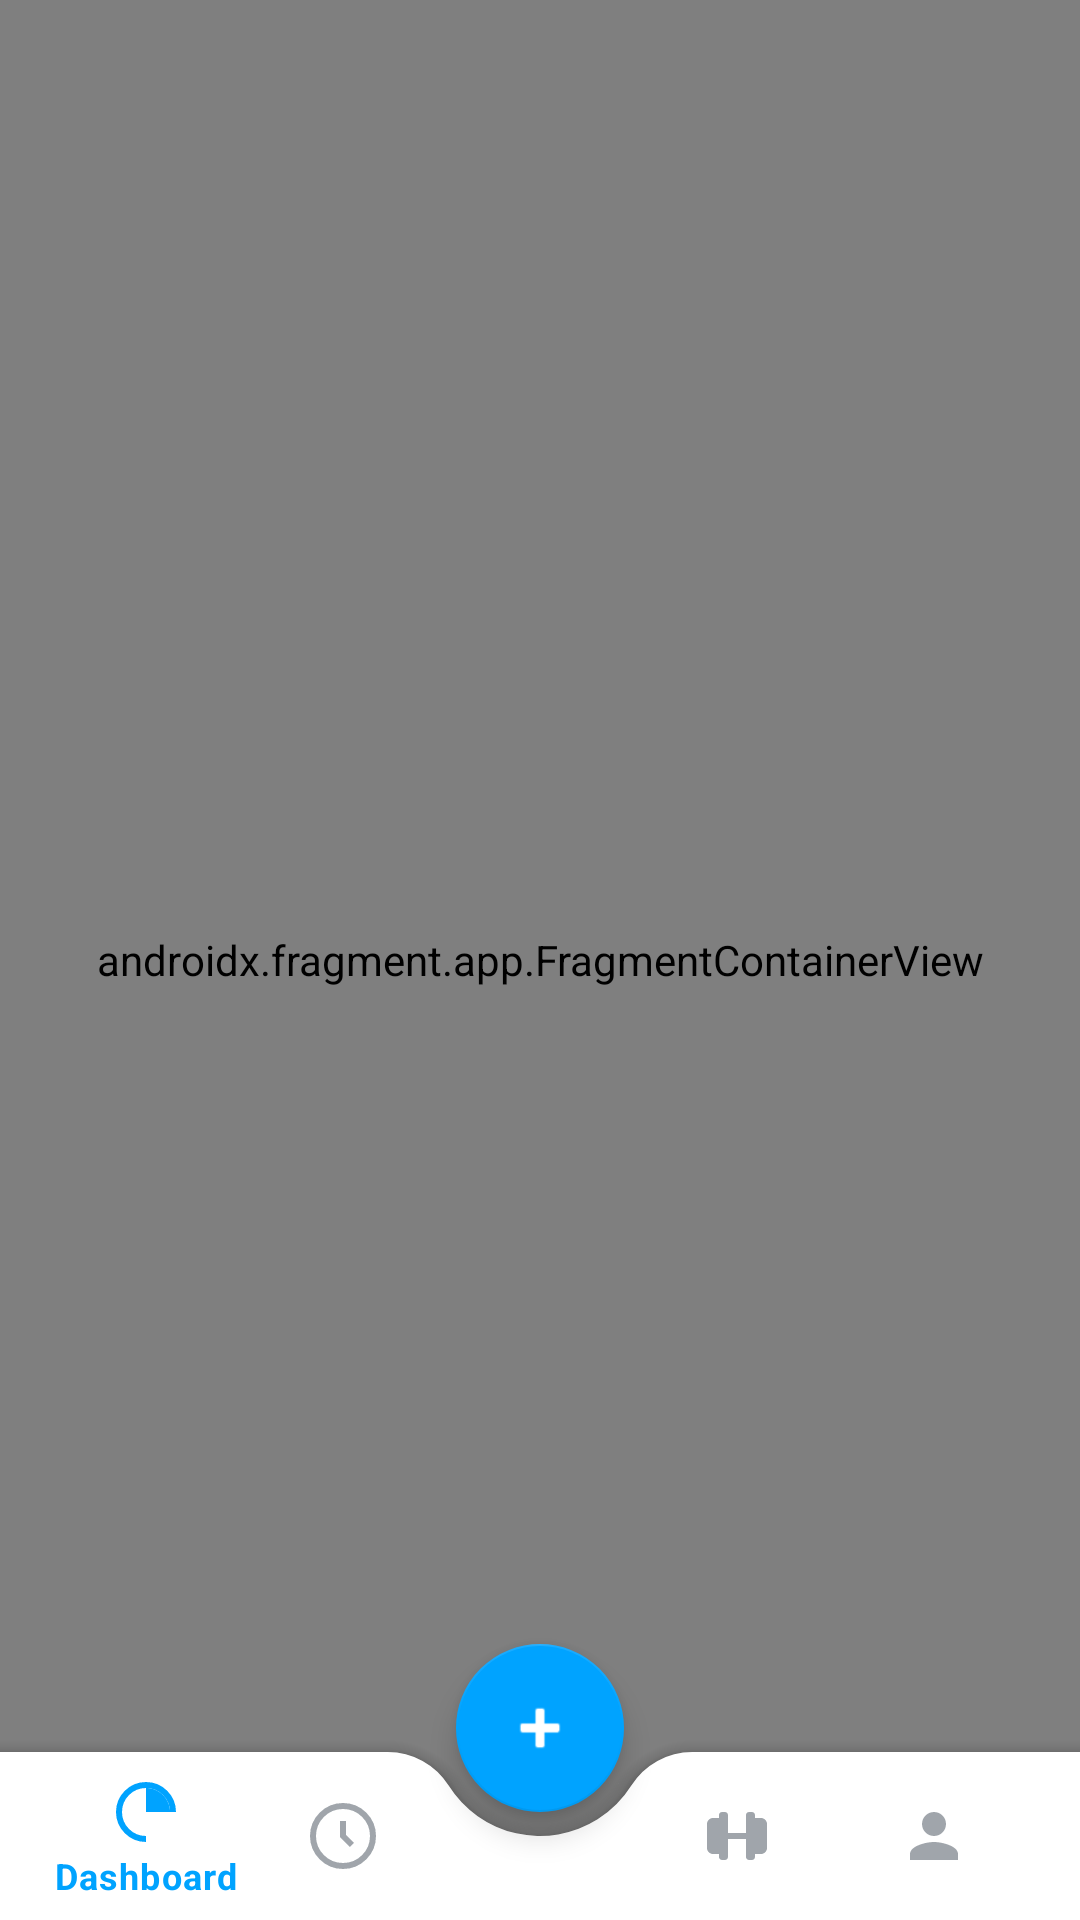

Where to tap for icons on this 1080 x 1920 app screen, as (x=x, y=y):
add: (x=540, y=1752)
